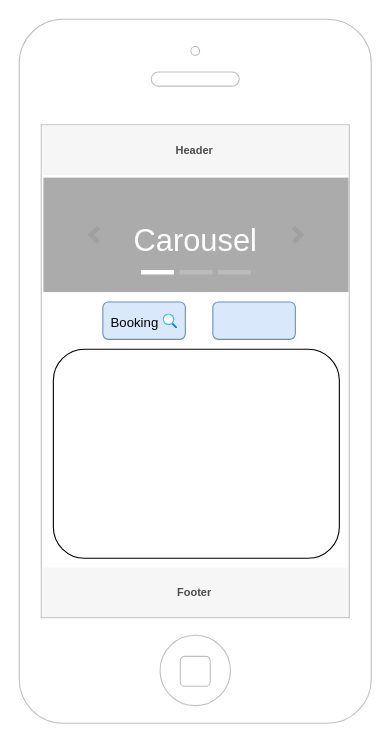
Image size: 391x743. Some labels were removed from this diagram. The shapes that lost their labels are listed below. From the top down, each one's centre as x and y in pixels, then its label:
At (x=253, y=320): "Voucher".
At (x=195, y=453): "NEWS - DESTINATIONS".
